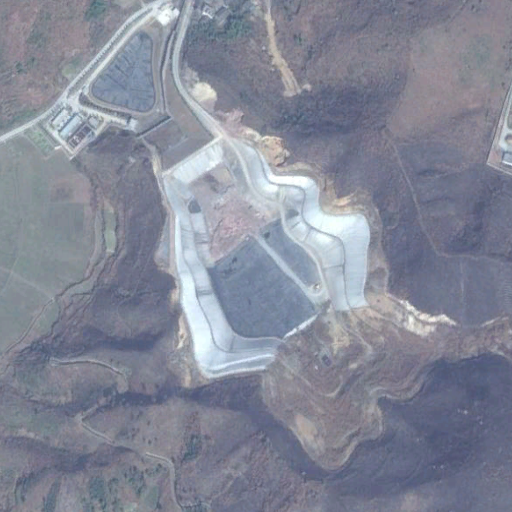lf: (162, 139, 373, 380)
